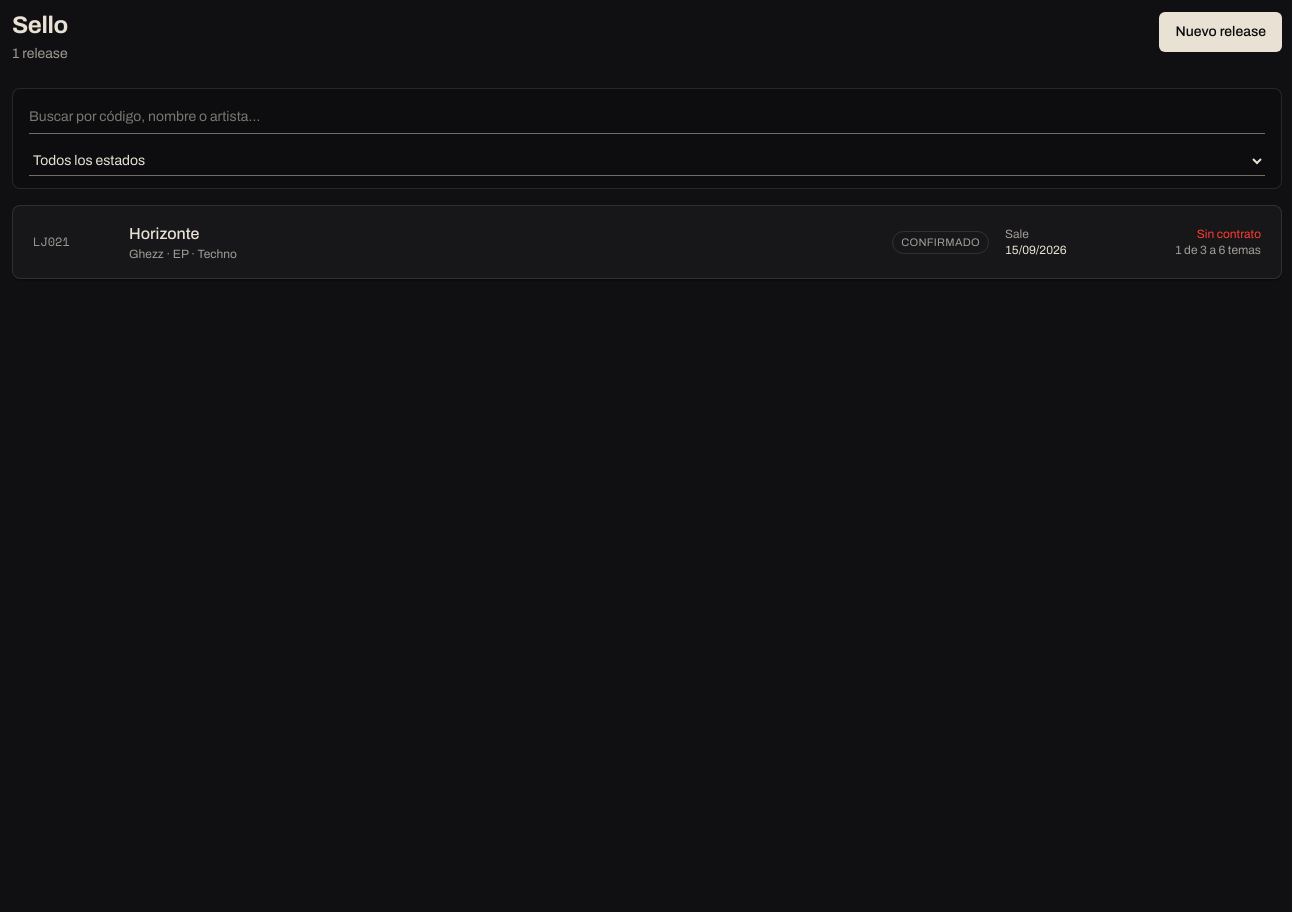
el tracklist › dibuja cada tema con lo que tiene cargado
Click the text "Horizonte" at (164, 234), box [129, 225, 199, 242]
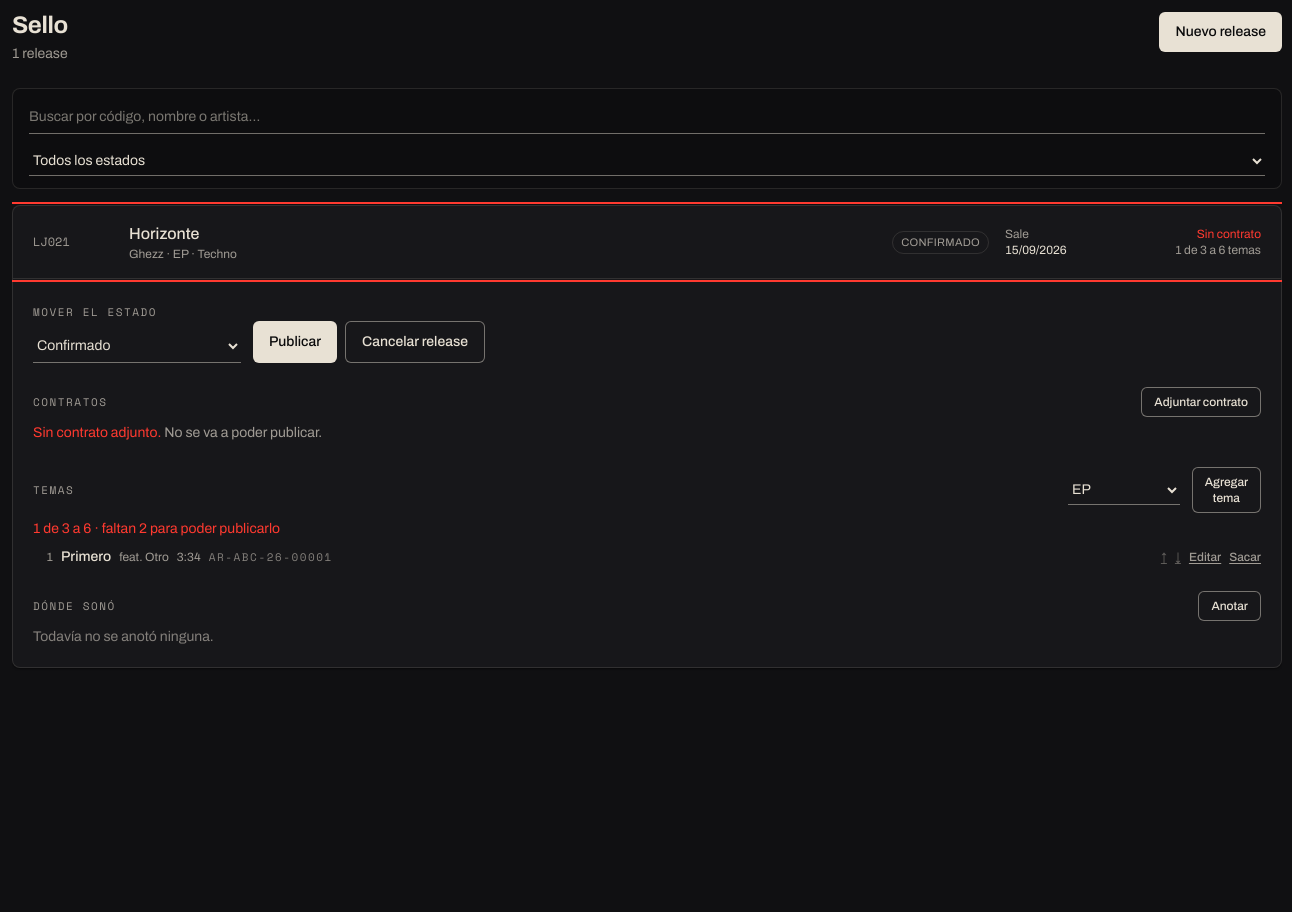
Expected: the text "Primero" is shown, [61, 547, 111, 567]
Expected: the text "3:34" is shown, [177, 549, 201, 565]
Expected: the text "feat. Otro" is shown, [119, 549, 169, 565]
